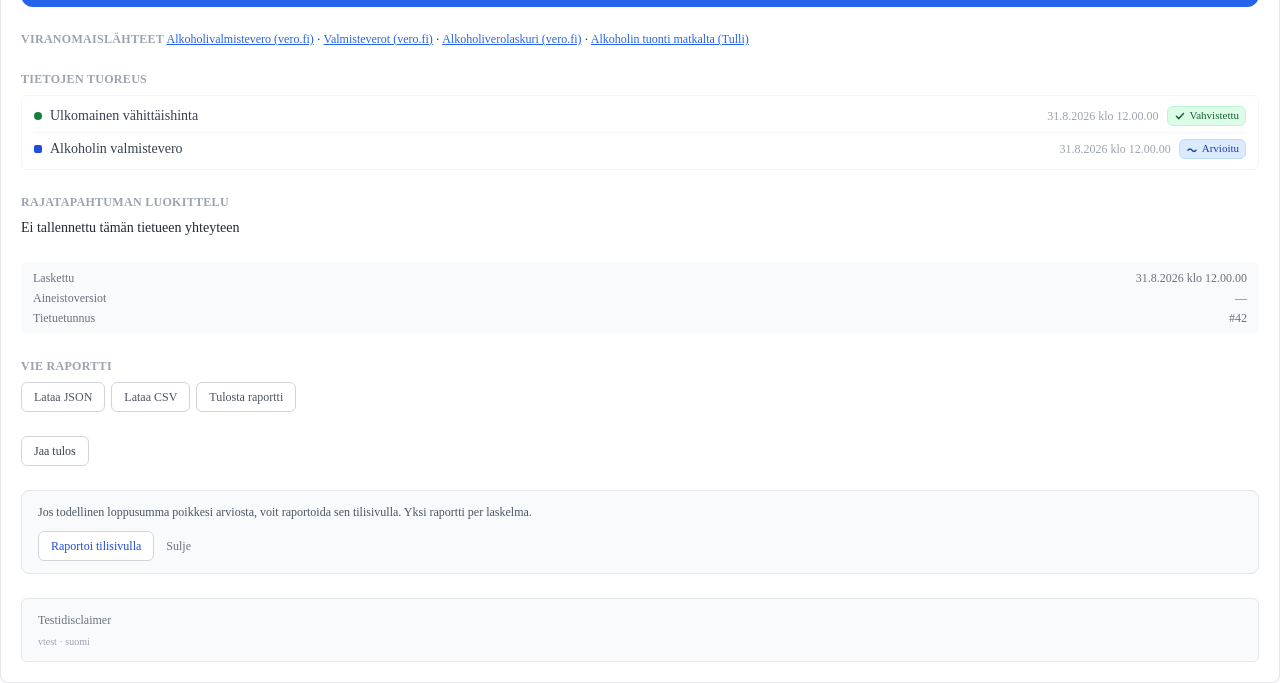
CalculatorResult outcome nudge (task 3.3) › dismisses for the session: hidden immediately, stays hidden on remount, never probes again
(page scrolled)
Click the button with test id "outcome-nudge-dismiss" at (179, 546), box [166,538,191,554]
(page scrolled)
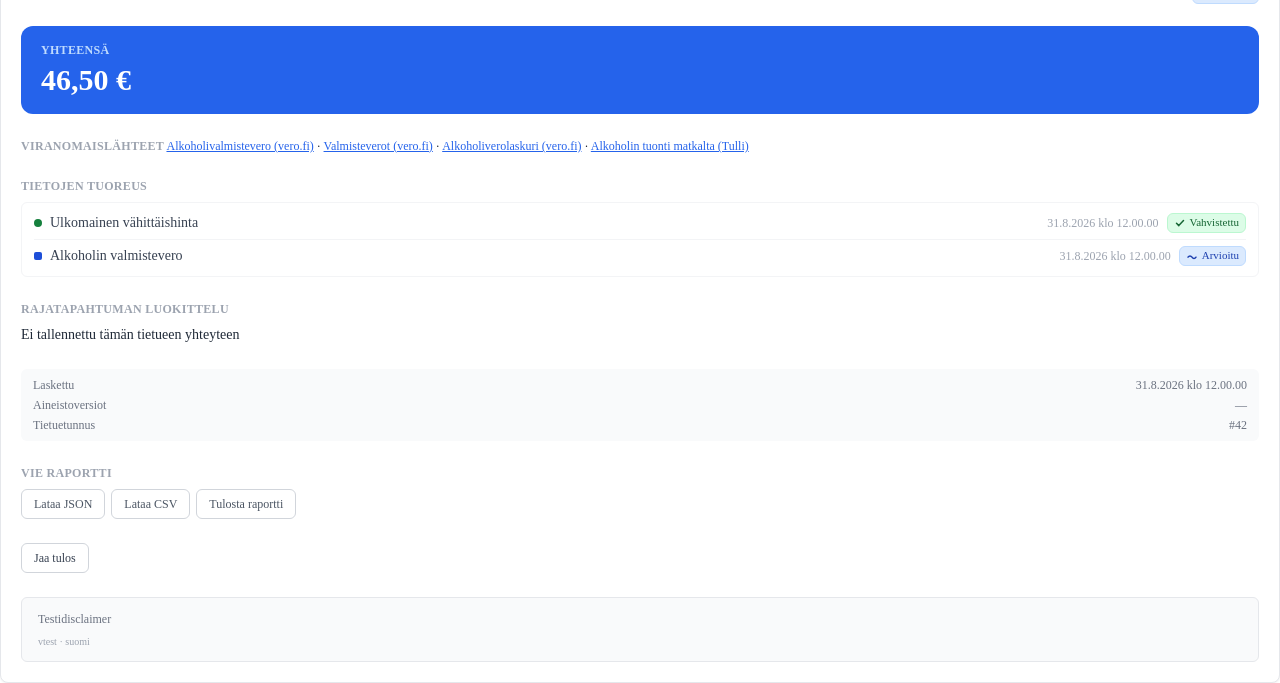
Expected: the element with test id "outcome-nudge" is gone
